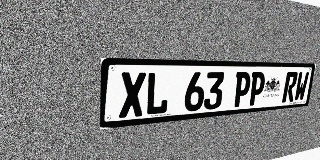3: (203, 72, 225, 110)
6: (184, 72, 206, 112)
L: (145, 72, 170, 116)
P: (232, 72, 252, 107), (247, 72, 266, 106)
R: (282, 72, 298, 103)
W: (293, 72, 309, 101)
X: (119, 72, 146, 118)
